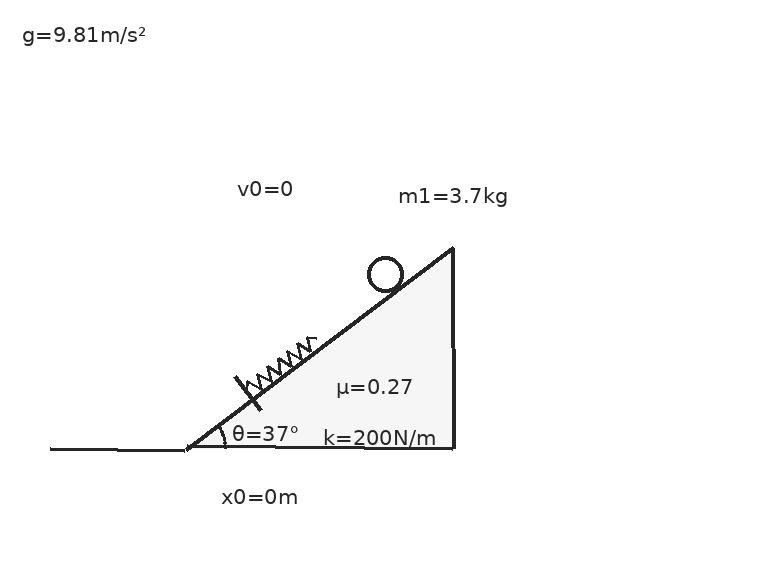ball: (365, 254, 405, 294)
ramp: (183, 244, 455, 450)
spring: (244, 334, 318, 392)
